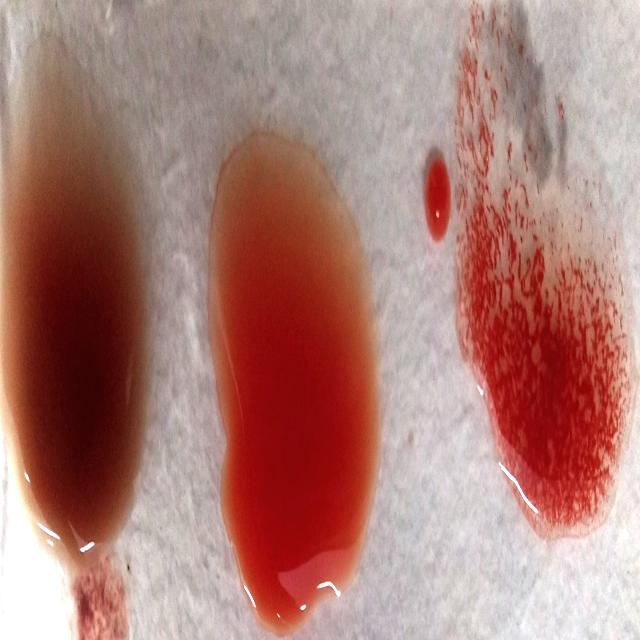D: (456, 31, 622, 536)
